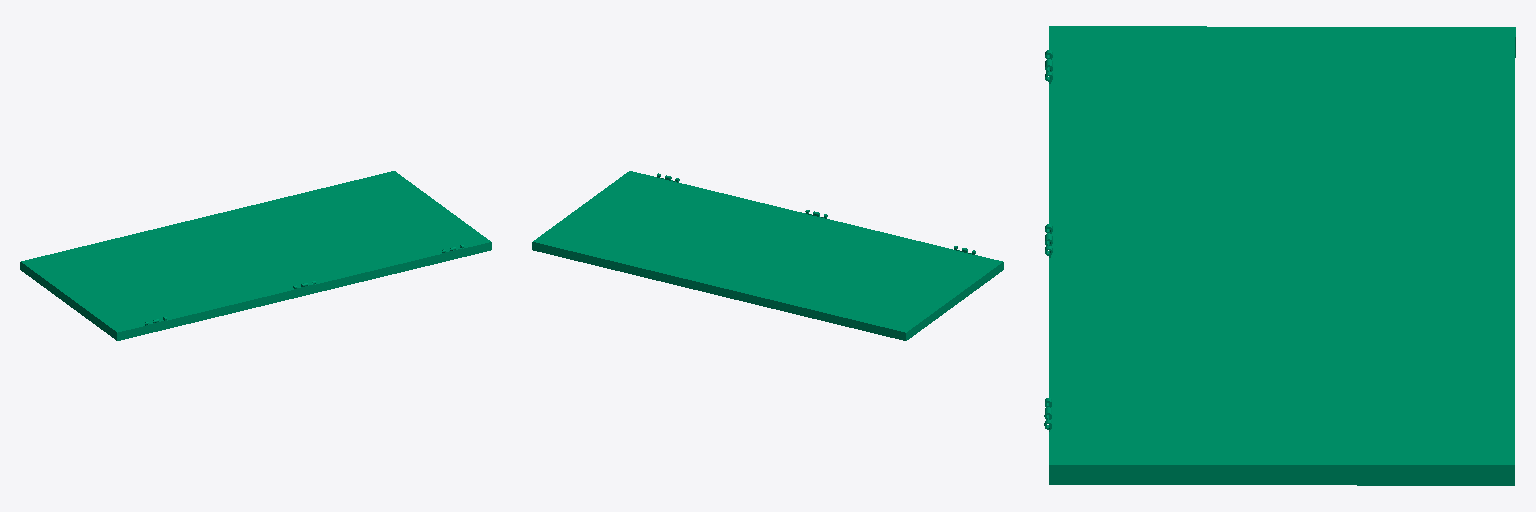
The robot description file, URDF, robot "door_test":
<robot name = 'door_test' xmlns:xacro="http://ros.org/wiki/xacro">
    <!-- <link name = 'world'/> -->
    
    <!-- <joint name = 'world2base' type = 'fixed'>
        <parent link = 'world'/>
        <child link = 'base_link'/>
    </joint> -->

    <link name = 'base_link'/>
        
    <joint name = 'base_joint' type = 'fixed'>
        <parent link = 'base_link'/>
        <origin xyz = '0 0.5 0.0' rpy='0 0 0'/>
        <!-- if move y : the door will slide -->
        <child link = 'door_frame'/>
    </joint>

    <link name = 'door_frame'>
        <visual>
            <geometry>
                <mesh filename = './meshes/frame.dae'/>
            </geometry>
            <origin xyz = '0.5 0 0' rpy = '1.57 0 0'/>
            <!-- <color rgba = '0.5 0.5 0.5 1.0'/> -->
        </visual>
        <!-- <collision name = "door frame_collision">
            <geometry>
                <mesh filename = './meshes/frame.dae'/>
                <origin xyz = '0.5 0 0' rpy = '1.57 0 0'/>
            </geometry>
        </collision> -->
        <collision name="side_1_:hinge_side">
            <geometry>
                <box size = '0.05029 0.06858 2.10820'/>
            </geometry>
            <origin xyz = '0.48 0.02 1.05' rpy = '0 0 0'/>
        </collision>
        <collision name="side_2">
            <geometry>
                <box size = '0.05029 0.06858 2.10820'/>
            </geometry>
            <origin xyz="0.48 1.02 1.05" rpy="0 0 0"/>
        </collision>
        <collision name="top">
            <geometry>
                <box size = '0.05029 0.92964 0.07366'/>
            </geometry>
            <origin xyz="0.48 0.52 2.05820" rpy="0 0 0"/>
        </collision>
        <inertial>
            <origin xyz="0 0 0" rpy="0 0 0"/>
            <mass value="10000.0"/>
            <inertia ixx="0.0" ixy="0.0" ixz="0.0" iyy="0.0" iyz="0.0" izz="0.0"/>
        </inertial>
    </link>

    <joint name = 'door_hinge' type = 'revolute'>
        <axis xyz = '0 0 1' rpy = '0 0 3.14159 '/>
        <origin xyz = '0.432 0.06858 2.040'/>
        <limit lower = '0' upper = '1.57' effort='100' velocity="100.00"/>
        <dynamics damping="5.0" friction="0.005"/>
        <parent link = 'door_frame'/>
        <child link = 'door'/>
    </joint>

    <link name = 'door'>
        <visual>
            <geometry>
                <mesh filename = './meshes/door.dae'/>
            </geometry>
            <origin xyz = '-0.05 0 0' rpy = '-1.57 0 1.57'/>
            <color rgba = '0.5 0.5 0.5 1.0'/>
        </visual>
        <collision name="door_collision">
            <geometry>
                <mesh filename = './meshes/door.dae'/>
            </geometry>
            <origin xyz = '-0.05 0 0' rpy = '-1.57 0 1.57'/>
        </collision>
        <inertial>
            <origin xyz="0.4569 0.0349 1.016" rpy="0 0 0"/>
            <mass value="41.3256"/>
            <inertia ixx="14.2053" ixy="0.0004" ixz="0.0000" iyy="17.1997" iyz="0.0000" izz="3.0298"/>
        </inertial>
    </link>

    <joint name = 'door_handle' type = 'revolute'>
        <axis xyz = '1 0 0' rpy = '0 0 0 '/>
        <parent link = 'door'/>
        <origin xyz = '0.035 0.75 -1.0'/>
        <limit lower = '0' upper = '0.5236' effort='100' velocity="1000.00"/>
        <dynamics damping="0.0" friction="0.0"/>
        <child link = 'door_handles'/>
    </joint>

    <link name = 'door_handles'>
        <visual>
            <geometry>
                <mesh filename = './meshes/door_handle.dae'/>
            </geometry>
            <origin xyz = '0 0 0' rpy = '0 3.141592 1.57'/>
            <color rgba = '0.55 0.5 0.5 1.0'/>
        </visual>
        <visual>
            <geometry>
                <mesh filename = './meshes/door_handle.dae'/>
            </geometry>
            <origin xyz = '0.04 0 0' rpy = '0 0 -1.57'/>
             <color rgba = '0.5 0.5 0.5 1.0'/>
        </visual>
        <collision name="door_handles_collision">
            <geometry>
                <mesh filename="./meshes/door_handle.dae"/>
            </geometry>
            <origin xyz = '0 0 0' rpy = '0 3.141592 1.57'/>
        </collision>
        <collision name="door_handles_collision">
            <geometry>
                <mesh filename="./meshes/door_handle.dae"/>
            </geometry>
            <origin xyz = '0.045 0 0' rpy = '0 0 -1.57'/>
        </collision>
        <inertial>
            <origin xyz="0.0 0.0 0.0" rpy="3.14159 0 1.57"/>
            <mass value="1.0"/>
            <!-- <inertia ixx="14.2053" ixy="0.0004" ixz="0.0000" iyy="17.1997" iyz="0.0000" izz="3.0298"/> -->
        </inertial>
    </link>
    
    <joint name = 'handle2latch' type = 'fixed'>
        <parent link = 'door_handles'/>
        <child link = 'door_latch'/>
    </joint>

    <link name='door_latch'>
        <collision>
            <geometry>
                <box size='0.001 0.14 0.01'/>
            </geometry>
            <origin xyz = '0.043 0.1 0' rpy = '0 0 0'/>
        </collision>
    </link>
    <!-- <gazebo reference="world">
        <material>Gazebo/Red</material>
    </gazebo> -->

</robot>

--- Facts derived from the render (not from the file) ---
3 views of the same robot in one strip: view 1: azimuth 30°, elevation 25°; view 2: azimuth 150°, elevation 25°; view 3: azimuth 270°, elevation 25° (orthographic).
Model door_test with 5 links and 4 joints (2 revolute, 2 fixed), rooted at base_link, posed every joint at zero.
Visible links, largest first — view 1: door; view 2: door; view 3: door.
Boxes of the visible links, box(x1,y1,x2,y2) form: door: box(20, 171, 491, 340); door: box(532, 171, 1003, 340); door: box(1044, 26, 1515, 485).
Size in the robot's own frame: 2.03 by 0.9242 by 0.0664 metres.
Meshes: 3 distinct files referenced, 1 mesh visuals loaded (1 Collada DAE); not drawn: 3 (reference not matched to a file when rendering).